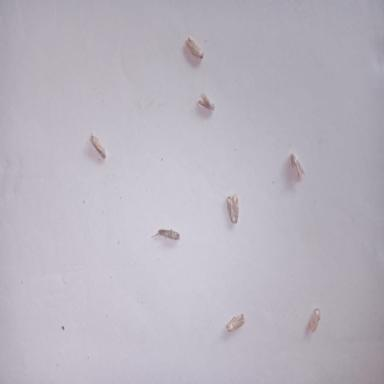pbw: (185, 36, 204, 59), (225, 313, 246, 333), (290, 153, 305, 180), (150, 228, 180, 241), (226, 193, 239, 223), (90, 135, 106, 159), (306, 308, 320, 332), (197, 93, 215, 110)
